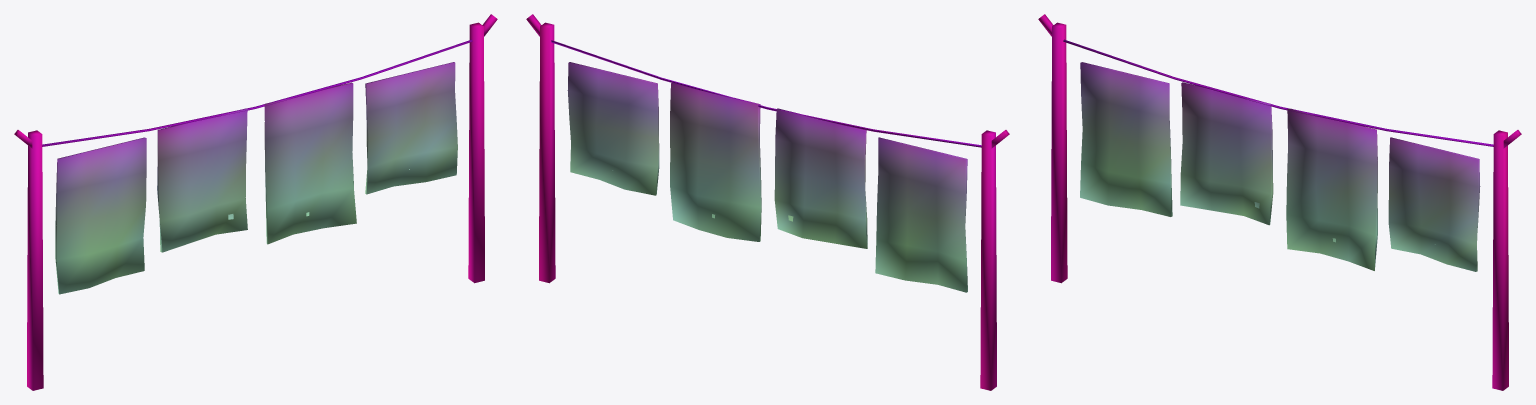
File: cloth_line.glb
3 views of the same model, side by side, from view 1: azimuth 30°, elevation 25°; view 2: azimuth 150°, elevation 25°; view 3: azimuth 330°, elevation 25° (orthographic).
Visible parts, largest first — view 1: Cloth, Poles; view 2: Cloth, Poles; view 3: Cloth, Poles.
Part boxes in pixels (box(x1,y1,x2,y2)): Cloth: box(55, 62, 457, 294); Poles: box(14, 14, 497, 390); Cloth: box(567, 62, 967, 292); Poles: box(526, 14, 1009, 390); Cloth: box(1080, 62, 1480, 271); Poles: box(1038, 14, 1521, 390).
Size of what is drawn, in the model's own units: 5.44 by 2.82 by 0.1232.
